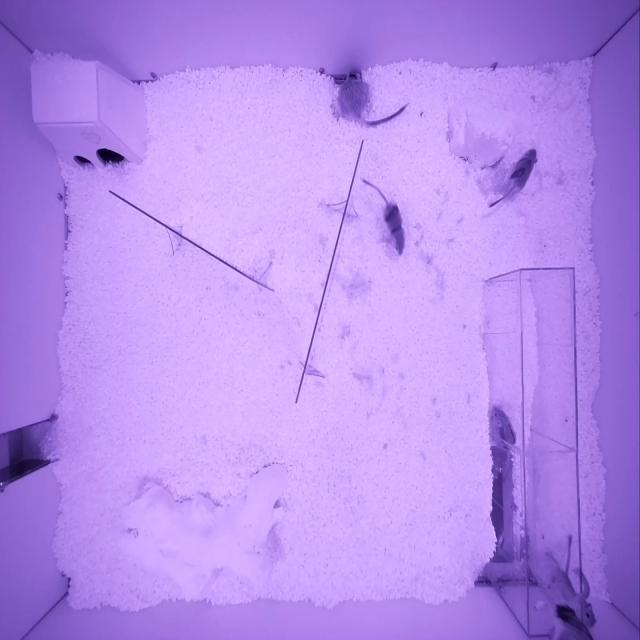adult_back: (533, 601, 595, 640)
adult_front: (335, 73, 372, 122)
pup_fluffy: (553, 567, 596, 628)
pup_h_stripe: (383, 204, 406, 257)
pup_spotted: (510, 149, 538, 190)
